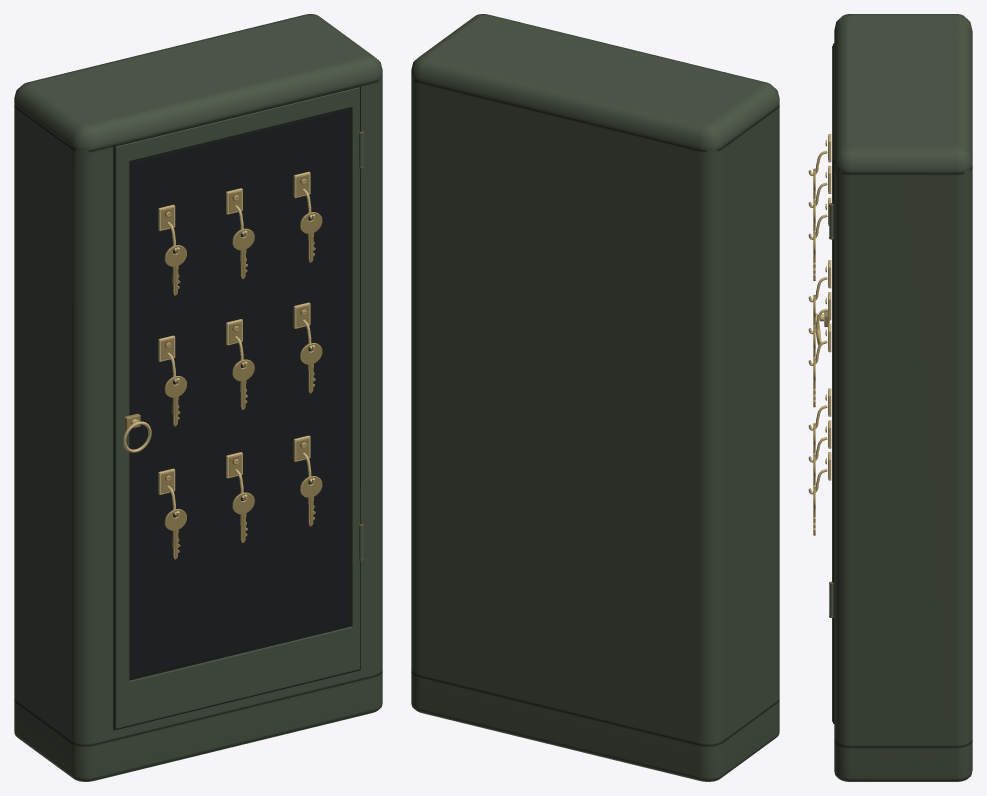
The model's file is guard_key_cabinet.glb.
3 renders of one model, left to right at view 1: azimuth 30°, elevation 25°; view 2: azimuth 150°, elevation 25°; view 3: azimuth 270°, elevation 25°, orthographic. The views are drawn at different scales.
Parts seen in each view (by area): view 1: CabinetHull, CharcoalDoorInset, OliveDoorFrame, DoorPerimeterRecess; view 2: CabinetHull; view 3: CabinetHull, DoorPerimeterRecess, OliveDoorFrame.
Boxes of the visible parts, x1,y1,x2,y2 form: CabinetHull: (14,14,382,781); CharcoalDoorInset: (131,109,349,678); OliveDoorFrame: (115,87,360,728); DoorPerimeterRecess: (113,84,360,730); CabinetHull: (411,14,779,781); CabinetHull: (834,14,972,781); DoorPerimeterRecess: (833,43,834,723); OliveDoorFrame: (832,45,832,721).
Bounding box in the file's own units: 1.6 × 3.21 × 0.759.
9 materials, 4 textured.
